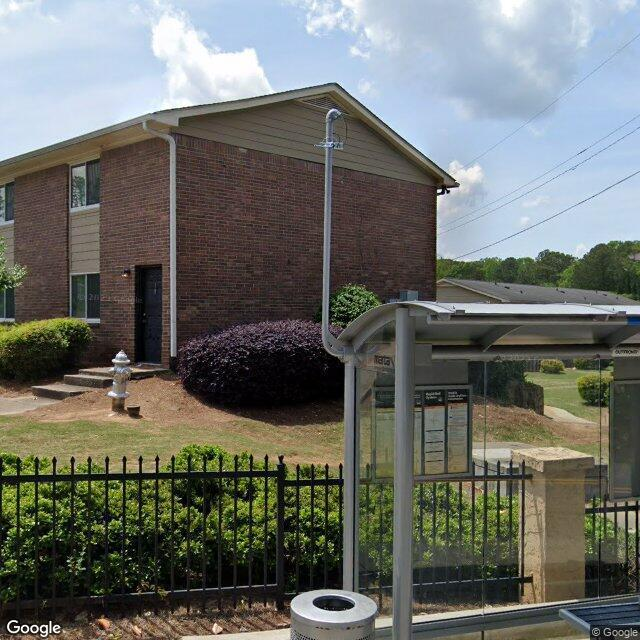seating: (557, 598, 640, 640)
shelter: (323, 300, 640, 640)
trash_can: (288, 590, 380, 640)
